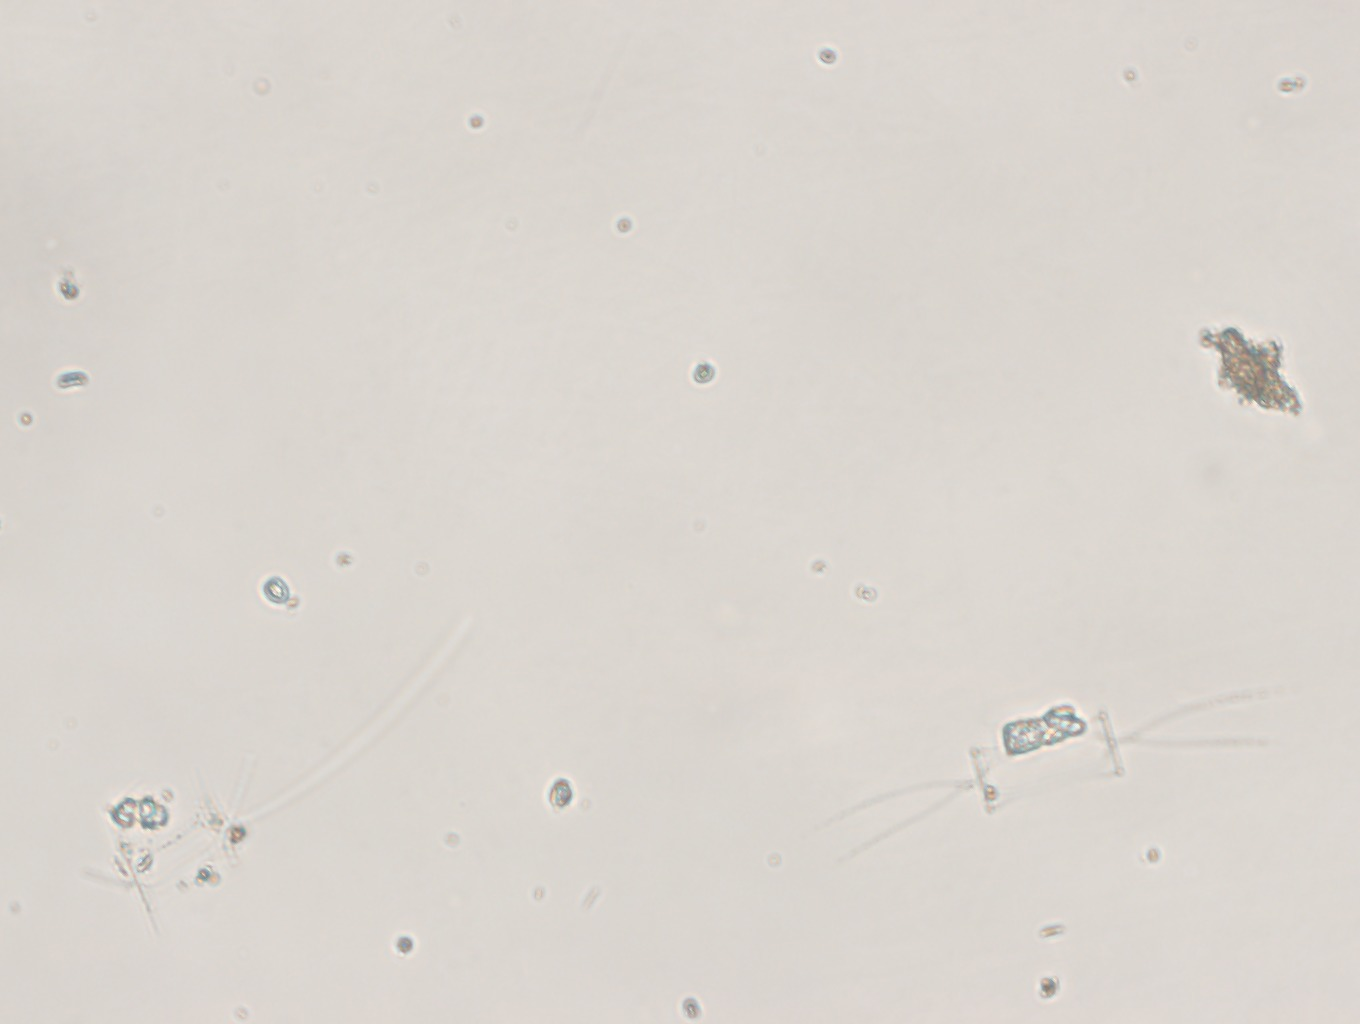chaetoceros: (793, 679, 1306, 874), (77, 733, 393, 963)
